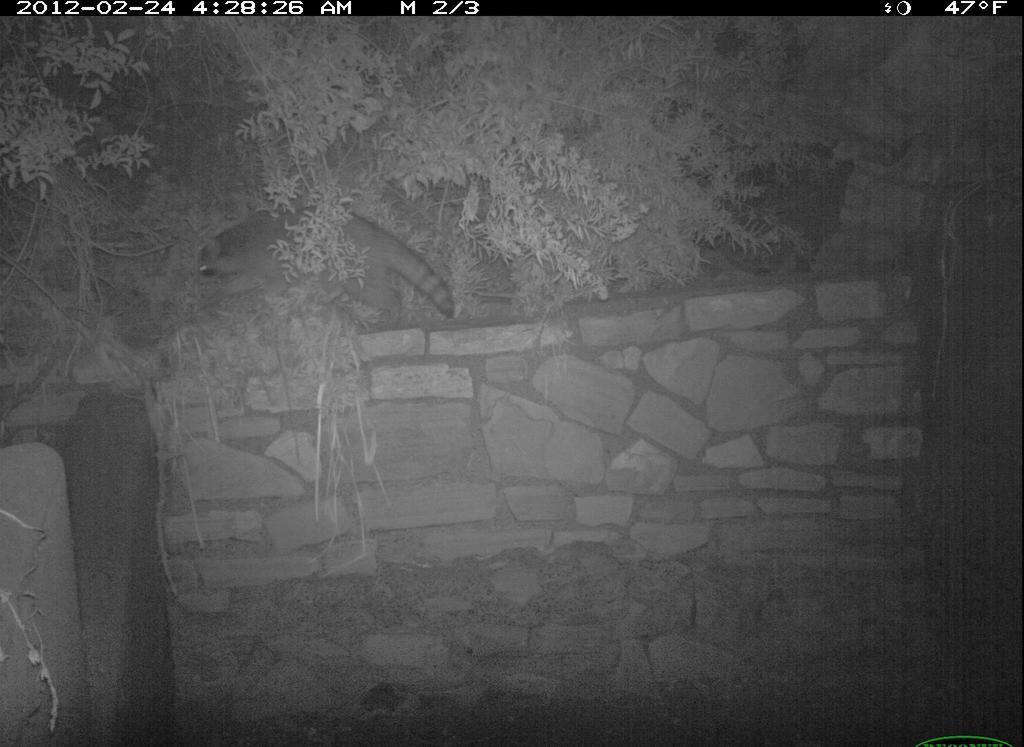raccoon: (190, 190, 469, 338)
